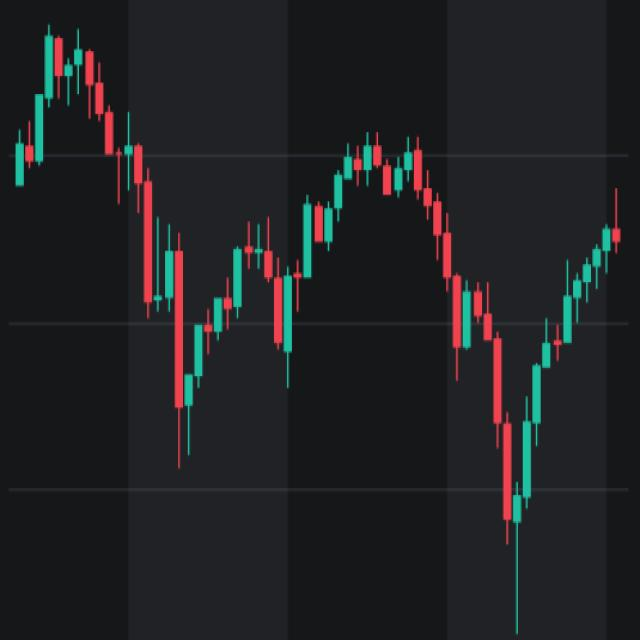Resistance-Emerging: (190, 139, 639, 484)
